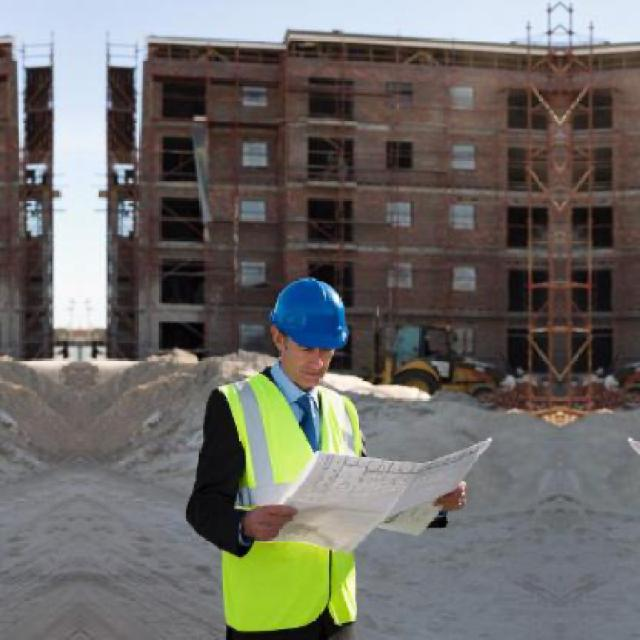con casco: (216, 260, 384, 396)
